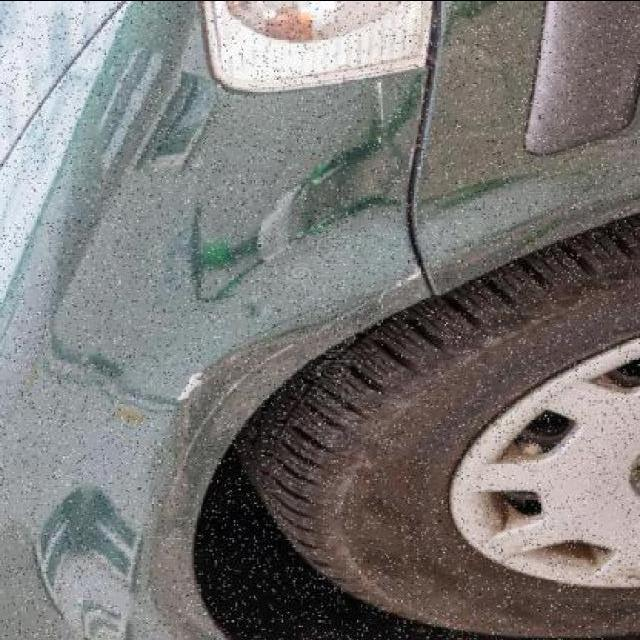fender-dent: (2, 73, 406, 640)
